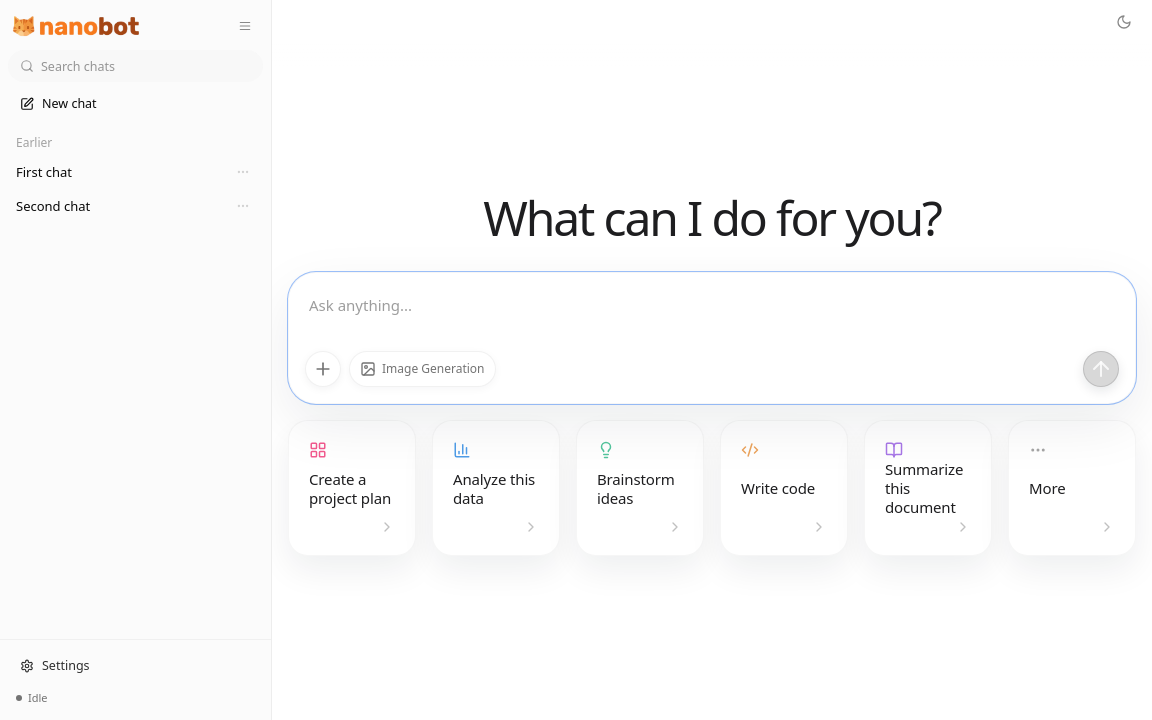
Test: App layout › switches to the next session when deleting the active chat
Expected: the button "First chat" is shown, [16,156,223,188]
Press the mouse on the button named "Chat actions for First chat" at (243, 172), box [231,160,255,184]
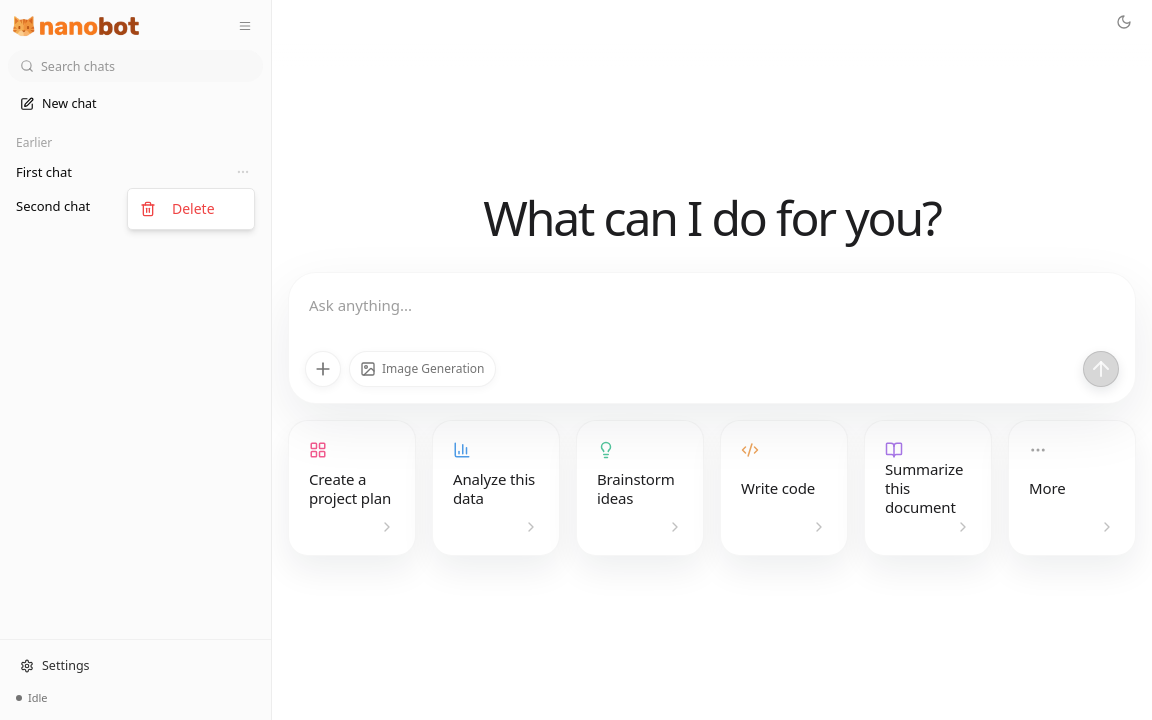
Click the menu item "Delete".
click(177, 208)  # box [140,199,215,218]
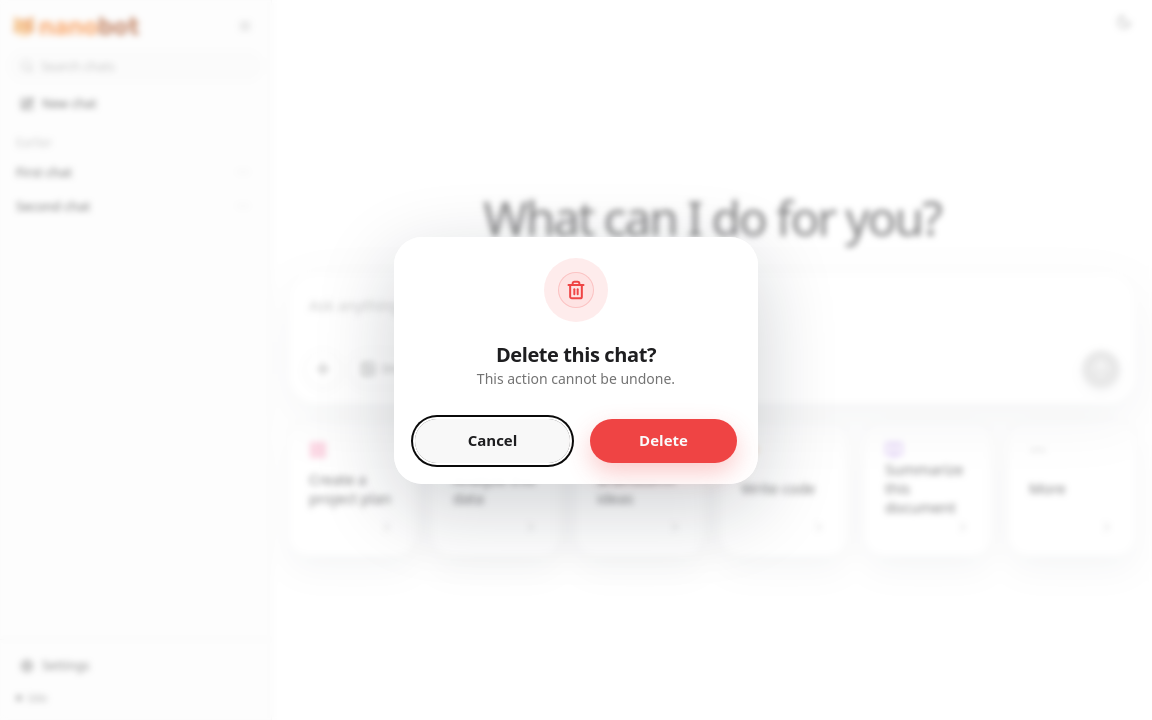
Now the heading "Delete this chat?" is shown, box [496,342,656,366]
Click the button "Delete".
click(664, 440)  # box [590,418,737,462]
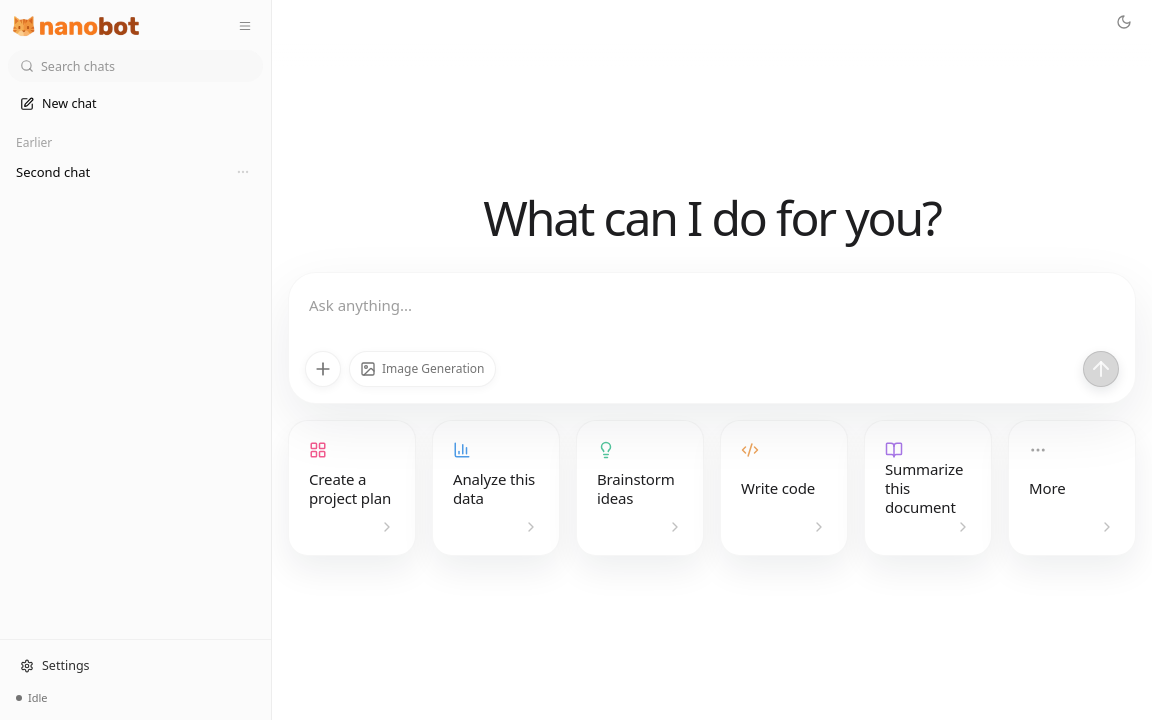
Expected: the button "Second chat" is shown, [16,156,223,188]
Now the heading "Delete this chat?" is gone
